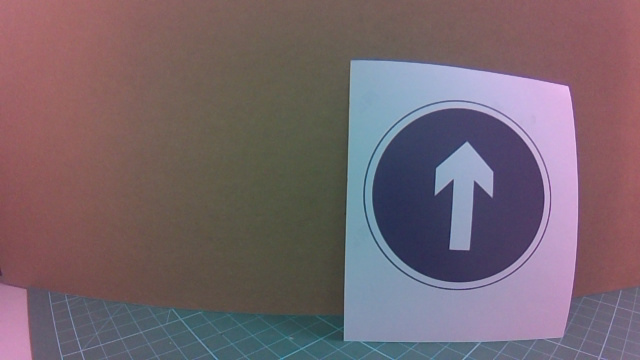forward: (366, 101, 562, 307)
